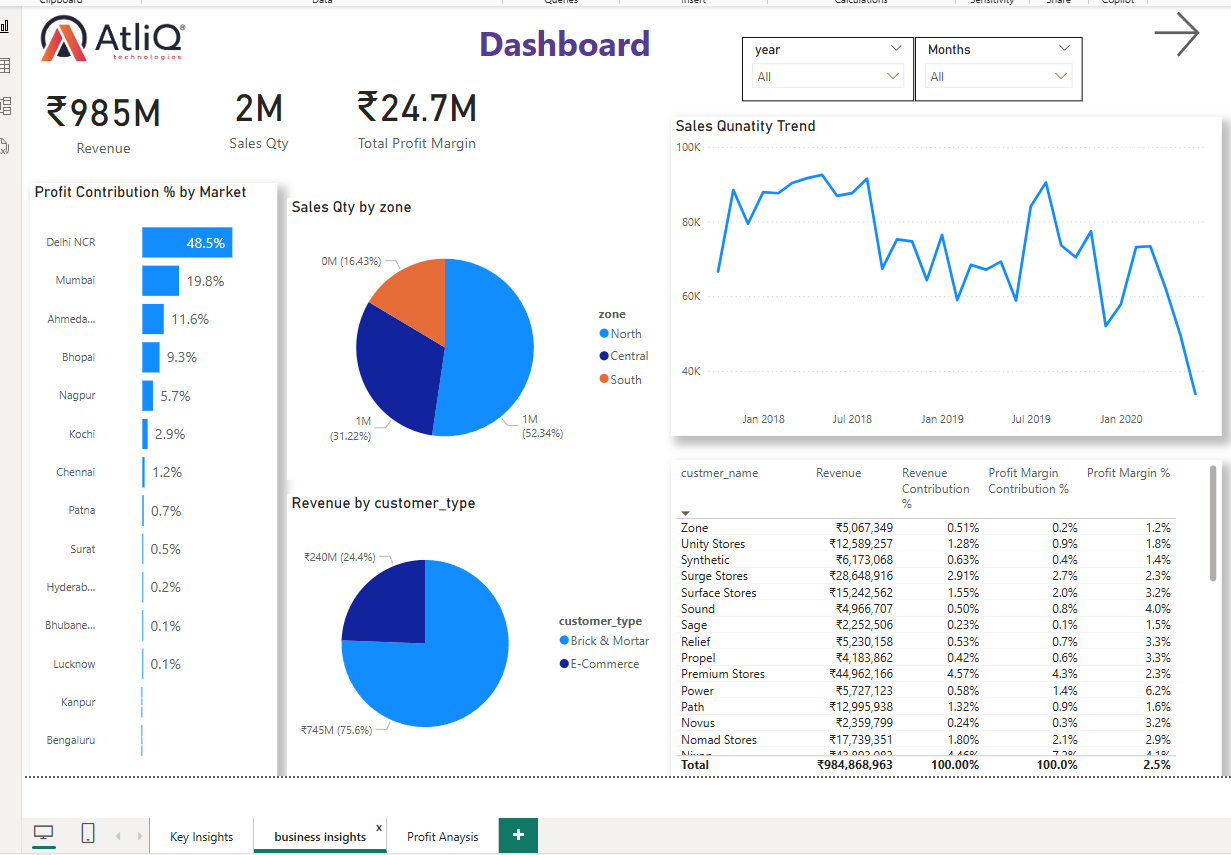

This screenshot's page, from the dashboard's own definition file:
{"tool":"powerbi","page":{"name":"business insights","canvas":[1350,850],"ordinal":1},"visuals":[{"type":"card","fields":{"Values":["BaseMeasures (2).Revenue"]},"box":[0,51.8,179.7,143.8],"z":0},{"type":"card","fields":{"Values":["BaseMeasures (2).Sales Qty"]},"box":[179.5,49.2,163.5,137.5],"z":1000},{"type":"barChart","title":"Profit Contribution % by Market","fields":{"Y":["BaseMeasures (2).Profit Margin Contribution %"],"Category":["sales markets.markets_name"]},"box":[8.8,195.4,272.6,654.6],"z":2000},{"type":"slicer","fields":{"Values":["sales date.year"]},"box":[795,33.8,190.3,70.8],"z":3000},{"type":"slicer","fields":{"Values":["sales date.cy_date"]},"box":[985.3,33.8,185,70.8],"z":4000},{"type":"tableEx","title":"Top 5 Customers","fields":{"Values":["sales customers.custmer_name","BaseMeasures (2).Revenue","BaseMeasures (2).Revenue Contribution %","BaseMeasures (2).Profit Margin Contribution %","BaseMeasures (2).Profit Margin %"]},"box":[716.4,500.8,607.8,348.8],"z":5000},{"type":"lineChart","title":"Sales Qunatity Trend","fields":{"Category":["sales date.cy_date"],"Y":["BaseMeasures (2).Sales Qty"]},"box":[716.4,123,607.8,351.7],"z":6000},{"type":"card","fields":{"Values":["BaseMeasures (2).Total Profit Margin"]},"box":[359.5,51.8,152.2,133.2],"z":7000},{"type":"actionButton","box":[1243.3,0,106.8,62.4],"z":8000},{"type":"image","box":[0,0,200.9,70.8],"z":9000},{"type":"textbox","box":[499,9.5,217.8,69.8],"z":10000},{"type":"pieChart","fields":{"Category":["sales customers.customer_type"],"Y":["BaseMeasures (2).Revenue"]},"box":[292.5,538.7,413.9,311.3],"z":11000},{"type":"pieChart","fields":{"Category":["sales markets.zone"],"Y":["BaseMeasures (2).Sales Qty"]},"box":[292.5,211.9,413.9,311.3],"z":11001}]}

Visuals, with their boxes on the page's 1350x850 design canvas (x1, y1, x2, y2). These are canvas units, not pixel positions in the 1231x855 screenshot, which may show the page scaled, cropped or inside an application window:
card - BaseMeasures (2).Revenue: 0:52:180:196
card - BaseMeasures (2).Sales Qty: 180:49:343:187
"Profit Contribution % by Market" barChart: 9:195:281:850
slicer - sales date.year: 795:34:985:105
slicer - sales date.cy_date: 985:34:1170:105
"Top 5 Customers" tableEx: 716:501:1324:850
"Sales Qunatity Trend" lineChart: 716:123:1324:475
card - BaseMeasures (2).Total Profit Margin: 360:52:512:185
actionButton: 1243:0:1350:62
image: 0:0:201:71
textbox: 499:10:717:79
pieChart - sales customers.customer_type x BaseMeasures (2).Revenue: 292:539:706:850
pieChart - sales markets.zone x BaseMeasures (2).Sales Qty: 292:212:706:523
